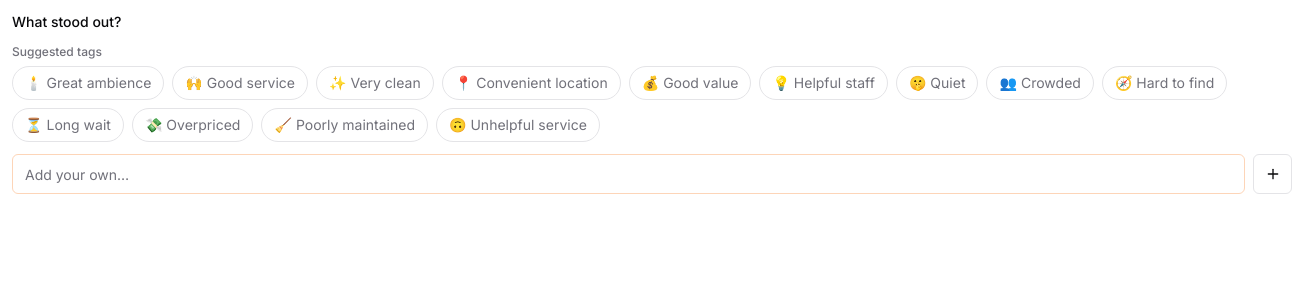
Test case: UnifiedTagSelector (curated adapter) › typing a suggestion label selects the suggestion (stored code kept, no duplicate)
Type "great AMBIENCE" into the field named "Add your own tag". click: (629, 174)
box: [12,154,1245,194]
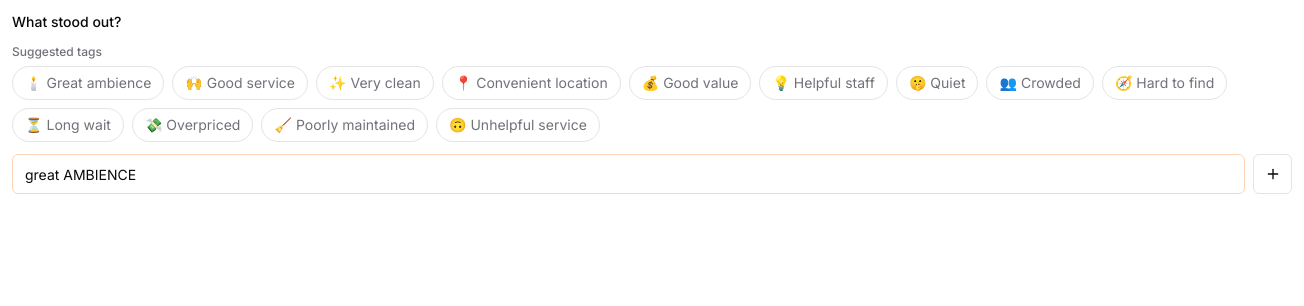
Press Enter in the field named "Add your own tag", box [12,154,1245,194]
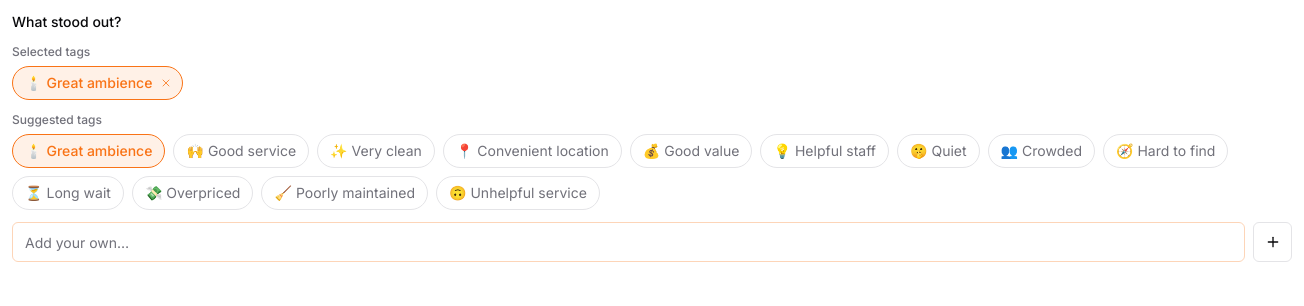
Type "Great ambience" into the field named "Add your own tag". click: (629, 242)
box: [12,222,1245,262]
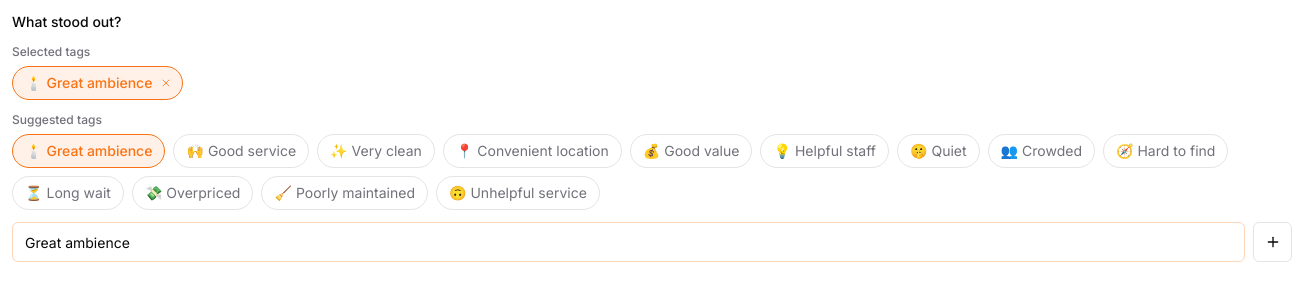
Press Enter in the field named "Add your own tag", box [12,222,1245,262]
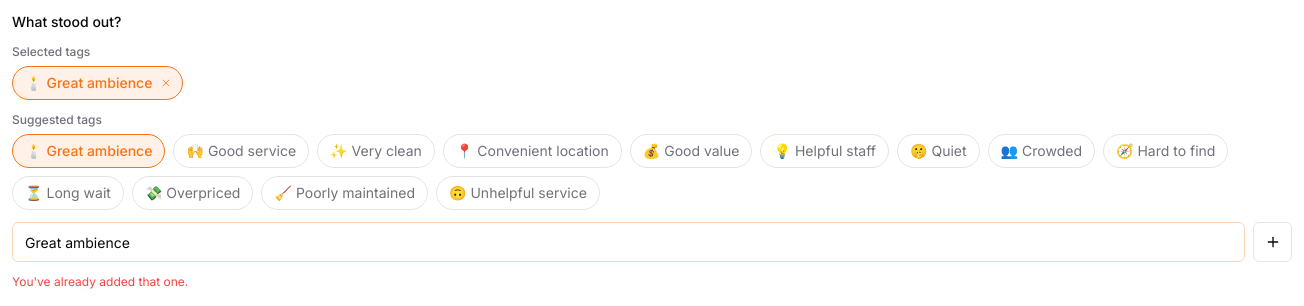
expect the message shows "already added": met, box [12,274,188,289]
